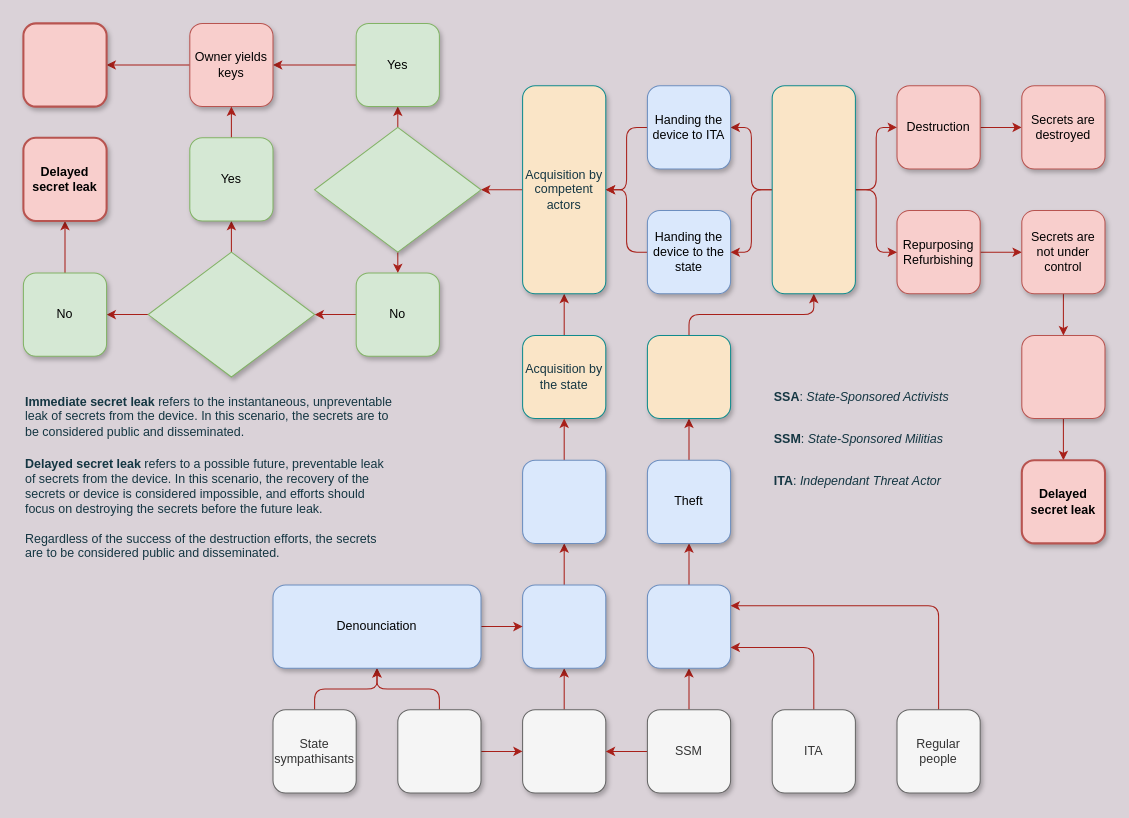
The diagram is 1129 pixels wide and 818 high, and some of its shapes have lost their labels. The centre of each missing label's shape, as x and y in pixels:
"Acquisition by incompetent actors" belongs at (x=814, y=191).
"Acquisition by third-parties" belongs at (x=689, y=378).
"Assume future secret leak" belongs at (x=1064, y=378).
"Can the device owner be in custody ?" belongs at (x=398, y=190).
"Can the threat actor apply leverage ?" belongs at (x=232, y=315).
"Device recovery" belongs at (x=564, y=503).
"Illegal action" belongs at (x=689, y=627).
"Immediate secret leak" belongs at (x=65, y=66).
"Legal action" belongs at (x=564, y=627).
"SSA" belongs at (x=440, y=752).
"State" belongs at (x=564, y=752).
